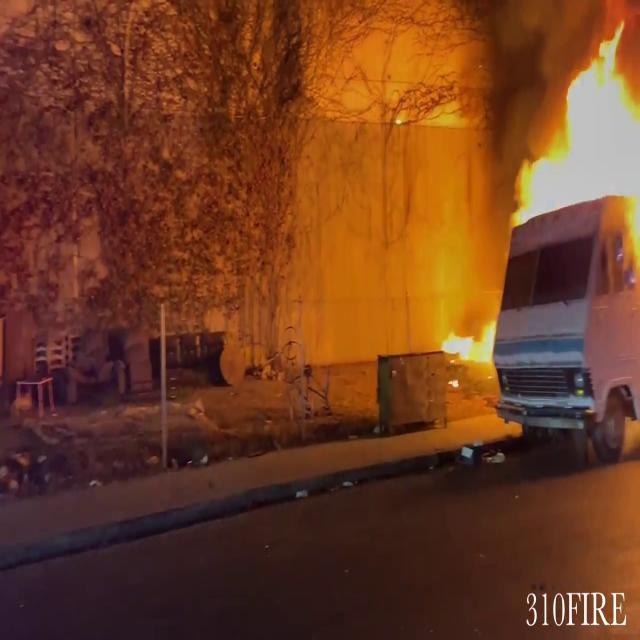Fire: (509, 7, 640, 264), (441, 306, 500, 368)
